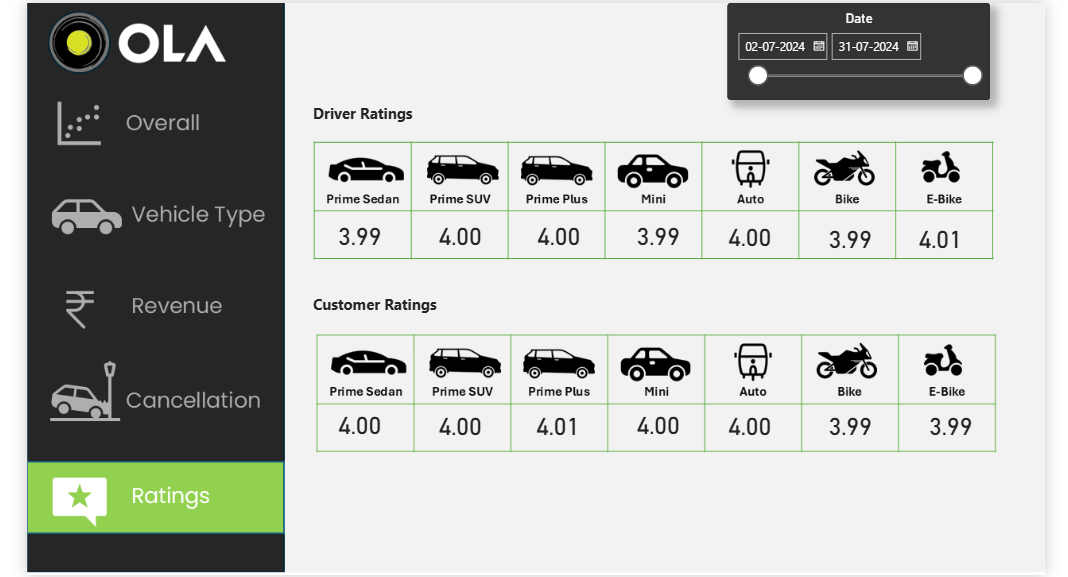

This screenshot's page, from the dashboard's own definition file:
{"tool":"powerbi","page":{"name":"Ratings","canvas":[1280,720],"ordinal":4},"visuals":[{"type":"actionButton","box":[0,579,324.5,85.9],"z":0},{"type":"actionButton","box":[0,210,324.5,98.6],"z":1000},{"type":"actionButton","box":[0,345.2,324.5,90.7],"z":2000},{"type":"actionButton","box":[0,447,324.5,101.8],"z":3000},{"type":"card","fields":{"Values":["Avg(July.Driver_Ratings)"]},"box":[355,260,126.7,61.7],"z":3001},{"type":"card","fields":{"Values":["Avg(July.Driver_Ratings)"]},"box":[481.7,260,126.7,61.7],"z":3002},{"type":"card","fields":{"Values":["Avg(July.Driver_Ratings)"]},"box":[608.3,260,121.7,61.7],"z":3003},{"type":"card","fields":{"Values":["Avg(July.Driver_Ratings)"]},"box":[730,260,126.7,61.7],"z":3004},{"type":"card","fields":{"Values":["Avg(July.Driver_Ratings)"]},"box":[845,261.7,126.7,61.7],"z":3005},{"type":"card","fields":{"Values":["Avg(July.Driver_Ratings)"]},"box":[971.7,263.3,126.7,61.7],"z":3006},{"type":"card","fields":{"Values":["Avg(July.Driver_Ratings)"]},"box":[1085,263.3,126.7,61.7],"z":3007},{"type":"card","fields":{"Values":["Avg(July.Customer_Rating)"]},"box":[355,498.3,126.7,61.7],"z":3008},{"type":"textbox","box":[355,121.7,148.3,43.3],"z":3009},{"type":"textbox","box":[355,360,190,51.7],"z":3010},{"type":"card","fields":{"Values":["Avg(July.Customer_Rating)"]},"box":[481.7,500,126.7,61.7],"z":3011},{"type":"card","fields":{"Values":["Avg(July.Customer_Rating)"]},"box":[603.3,500,126.7,61.7],"z":3012},{"type":"card","fields":{"Values":["Avg(July.Customer_Rating)"]},"box":[730,498.3,126.7,61.7],"z":3013},{"type":"card","fields":{"Values":["Avg(July.Customer_Rating)"]},"box":[845,500,126.7,61.7],"z":3014},{"type":"card","fields":{"Values":["Avg(July.Customer_Rating)"]},"box":[971.7,500,126.7,61.7],"z":3015},{"type":"card","fields":{"Values":["Avg(July.Customer_Rating)"]},"box":[1098.3,500,126.7,61.7],"z":3016},{"type":"slicer","title":"Date","fields":{"Values":["July.Date"]},"box":[881.7,0,330,121.7],"z":3017}]}

Visuals, with their boxes on the page's 1280x720 design canvas (x1, y1, x2, y2). These are canvas units, not pixel positions in the 1068x577 screenshot, which may show the page scaled, cropped or inside an application window:
actionButton: Rect(0, 579, 324, 665)
actionButton: Rect(0, 210, 324, 309)
actionButton: Rect(0, 345, 324, 436)
actionButton: Rect(0, 447, 324, 549)
card - Avg(July.Driver_Ratings): Rect(355, 260, 482, 322)
card - Avg(July.Driver_Ratings): Rect(482, 260, 608, 322)
card - Avg(July.Driver_Ratings): Rect(608, 260, 730, 322)
card - Avg(July.Driver_Ratings): Rect(730, 260, 857, 322)
card - Avg(July.Driver_Ratings): Rect(845, 262, 972, 323)
card - Avg(July.Driver_Ratings): Rect(972, 263, 1098, 325)
card - Avg(July.Driver_Ratings): Rect(1085, 263, 1212, 325)
card - Avg(July.Customer_Rating): Rect(355, 498, 482, 560)
textbox: Rect(355, 122, 503, 165)
textbox: Rect(355, 360, 545, 412)
card - Avg(July.Customer_Rating): Rect(482, 500, 608, 562)
card - Avg(July.Customer_Rating): Rect(603, 500, 730, 562)
card - Avg(July.Customer_Rating): Rect(730, 498, 857, 560)
card - Avg(July.Customer_Rating): Rect(845, 500, 972, 562)
card - Avg(July.Customer_Rating): Rect(972, 500, 1098, 562)
card - Avg(July.Customer_Rating): Rect(1098, 500, 1225, 562)
"Date" slicer: Rect(882, 0, 1212, 122)
